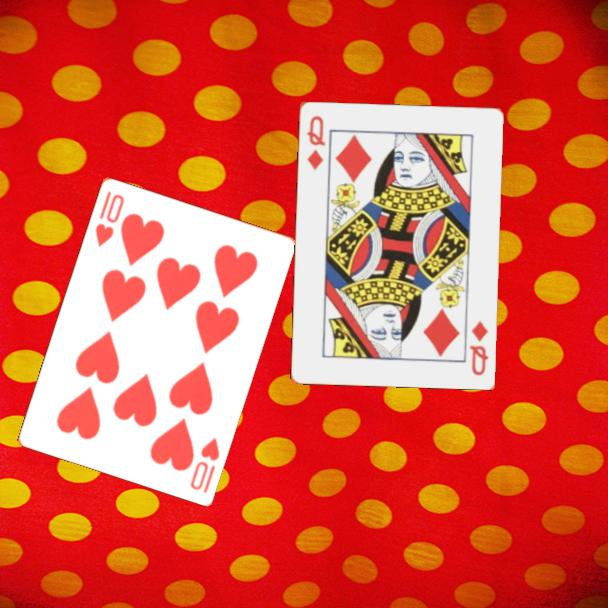d12: (303, 112, 328, 173), (466, 317, 491, 378)
h10: (91, 187, 127, 249), (186, 434, 222, 496)
